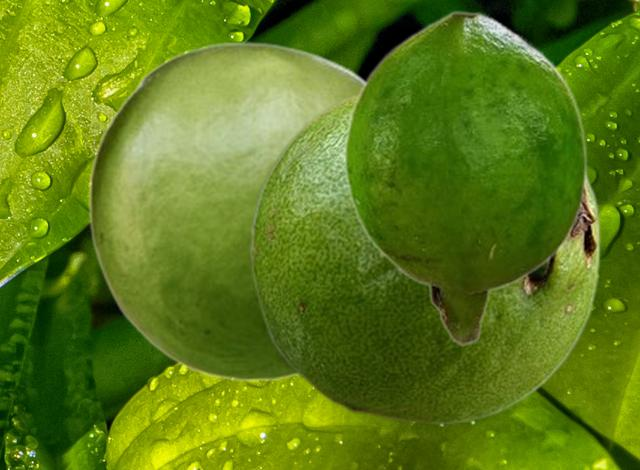guava: (249, 91, 600, 425), (87, 41, 364, 382), (343, 10, 587, 346)
